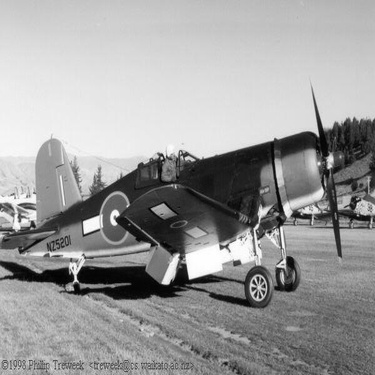airplane: (1, 79, 355, 327)
